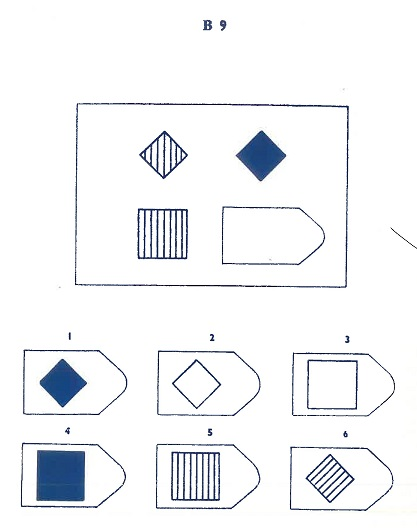Array 1: (17, 328, 130, 419)
Array 2: (152, 328, 264, 419)
Array 3: (286, 330, 399, 421)
Array 4: (17, 423, 129, 512)
Array 5: (151, 422, 264, 513)
Array 6: (286, 425, 398, 514)
Matrix 1: (133, 124, 192, 183)
Matrix 2: (231, 123, 289, 185)
Matrix 3: (132, 203, 194, 263)
Matrix Unknown: (218, 200, 328, 270)
